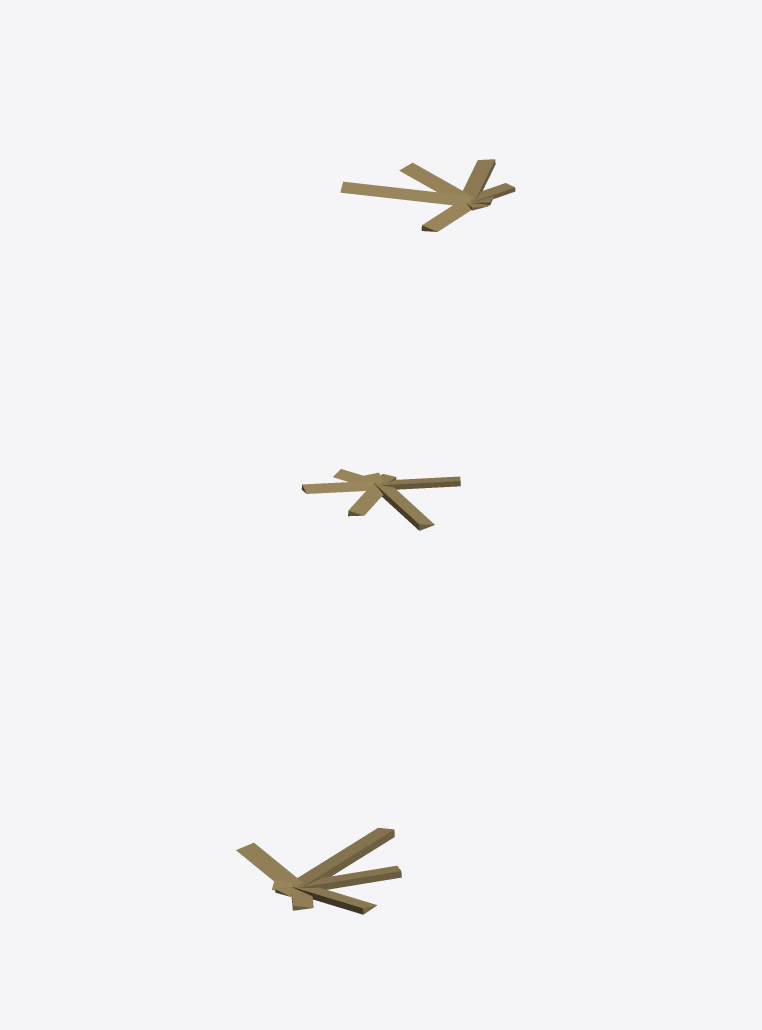
File: shui.pingpeng@subadult__autumn.glb
3 renders of one model, top to bottom at view 1: azimuth 30°, elevation 25°; view 2: azimuth 150°, elevation 25°; view 3: azimuth 270°, elevation 25°, orthographic. The views are drawn at different scales.
Parts seen in each view (by area): view 1: shui.pingpeng@subadult__autumn; view 2: shui.pingpeng@subadult__autumn; view 3: shui.pingpeng@subadult__autumn.
Part boxes in pixels (bbox=[...]): shui.pingpeng@subadult__autumn: bbox=[340, 159, 515, 231]; shui.pingpeng@subadult__autumn: bbox=[301, 469, 460, 530]; shui.pingpeng@subadult__autumn: bbox=[236, 827, 401, 914].
Size of the model in its own units: 0.7031 by 0.0266 by 0.6338.
